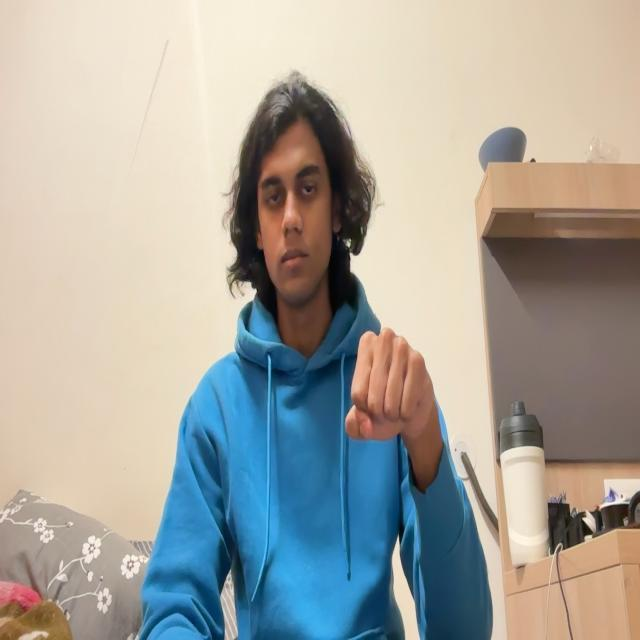Yes: (334, 312, 474, 468)
